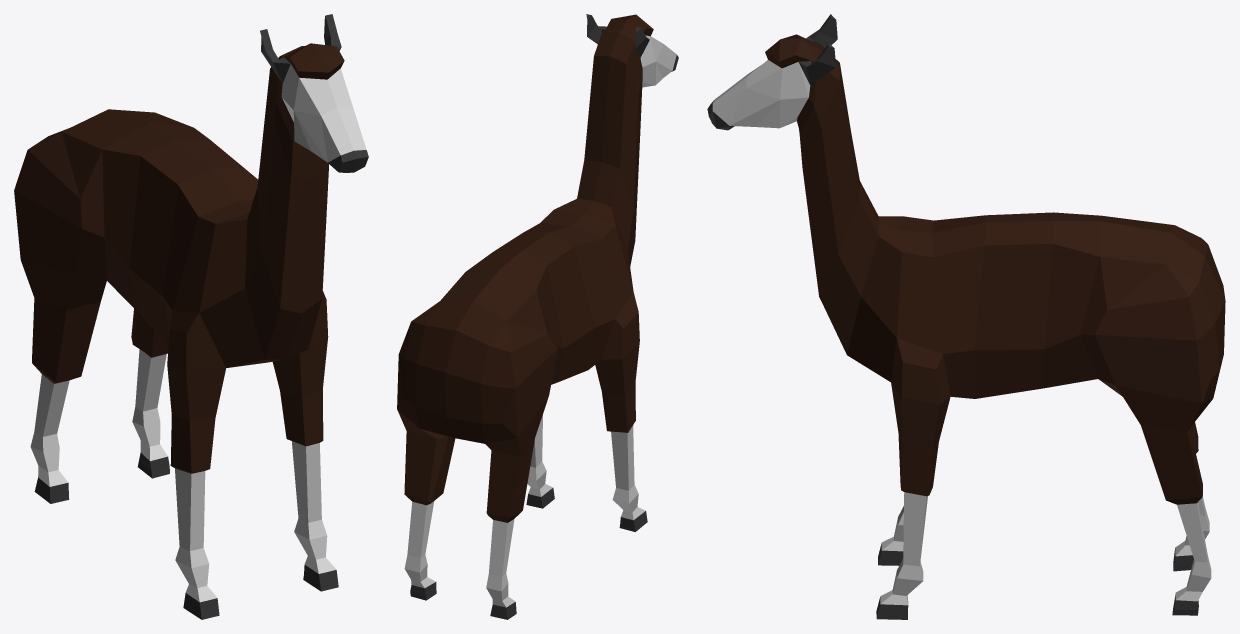
File: Llama__1_000026.obj
The picture shows the model from 3 angles, left to right: view 1: azimuth 30°, elevation 25°; view 2: azimuth 150°, elevation 25°; view 3: azimuth 270°, elevation 25°; orthographic projection. The views are drawn at different scales.
Parts seen in each view (by area): view 1: Llama_Cylinder; view 2: Llama_Cylinder; view 3: Llama_Cylinder.
Boxes of the visible parts, x1,y1,x2,y2 form: Llama_Cylinder: (14,14,368,619); Llama_Cylinder: (397,14,678,619); Llama_Cylinder: (707,14,1225,619).
Size of the model in its own units: 1.57 by 5.85 by 4.9.
